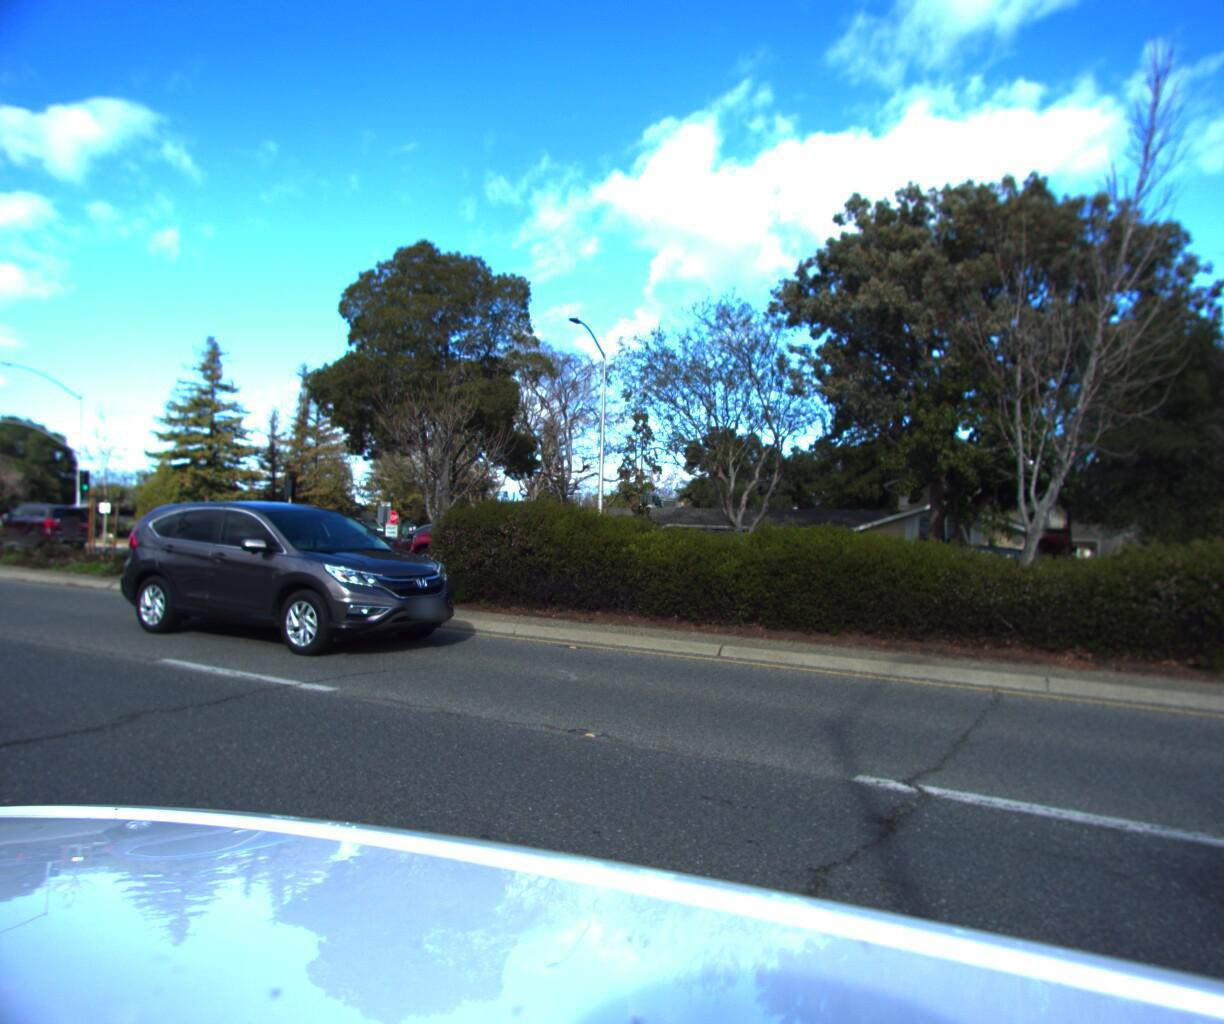car: (112, 486, 488, 666), (848, 538, 1061, 624), (397, 508, 597, 588), (206, 510, 400, 588)
